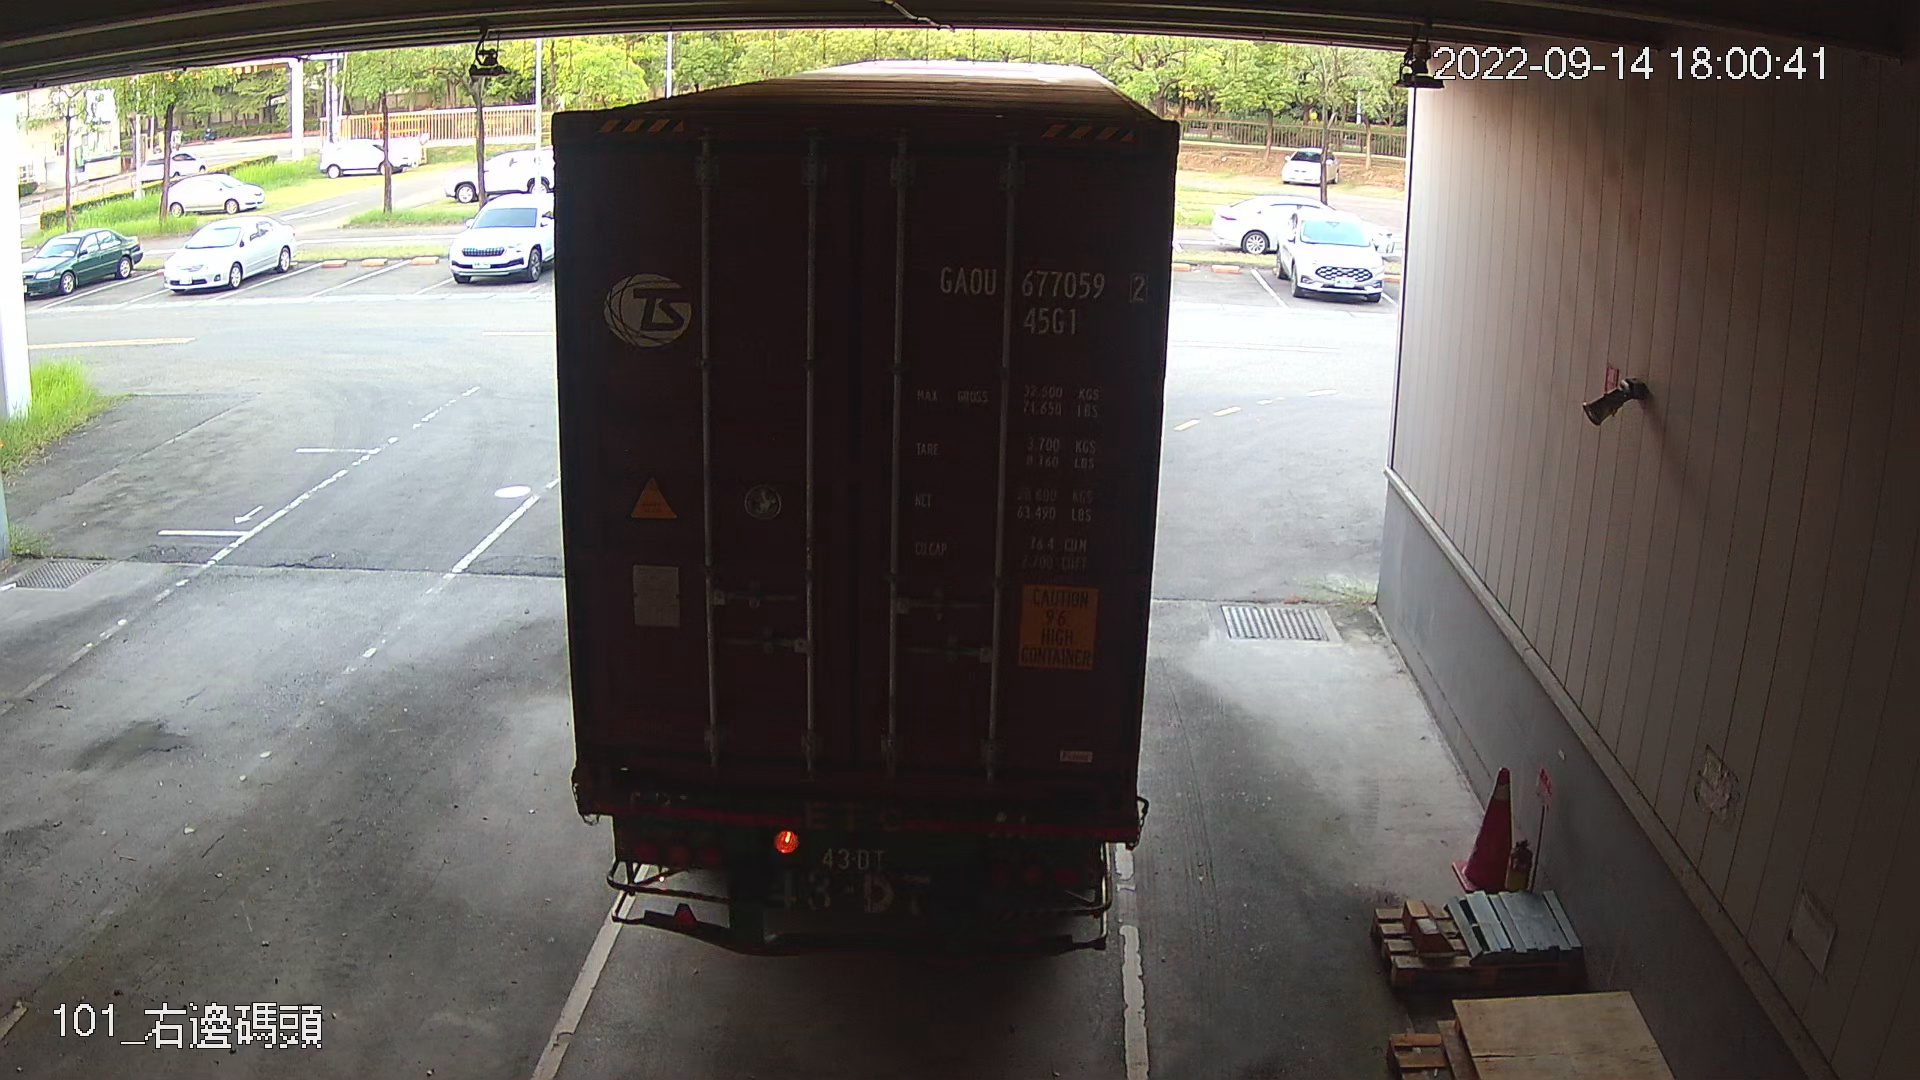container: (932, 255, 1151, 342)
